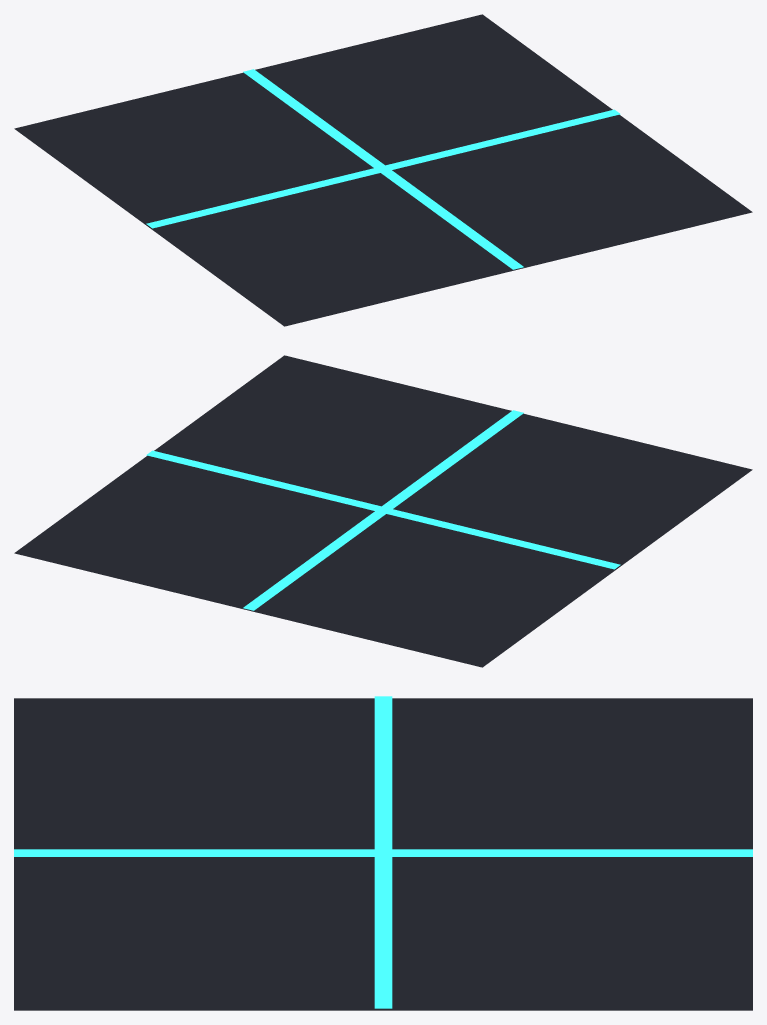
Rendered from cyb-praca-neon.gltf.
3 views of the same model, one above another, from view 1: azimuth 30°, elevation 25°; view 2: azimuth 150°, elevation 25°; view 3: azimuth 270°, elevation 25° (orthographic). The views are drawn at different scales.
Visible parts, largest first — view 1: cyb-praca-neon; view 2: cyb-praca-neon; view 3: cyb-praca-neon.
Part boxes in pixels (x1=…): cyb-praca-neon: x1=14, y1=14, x2=752, y2=326; cyb-praca-neon: x1=14, y1=355, x2=752, y2=667; cyb-praca-neon: x1=14, y1=696, x2=752, y2=1010.
Size of the model in its own units: 1 by 0.00299 by 1.
